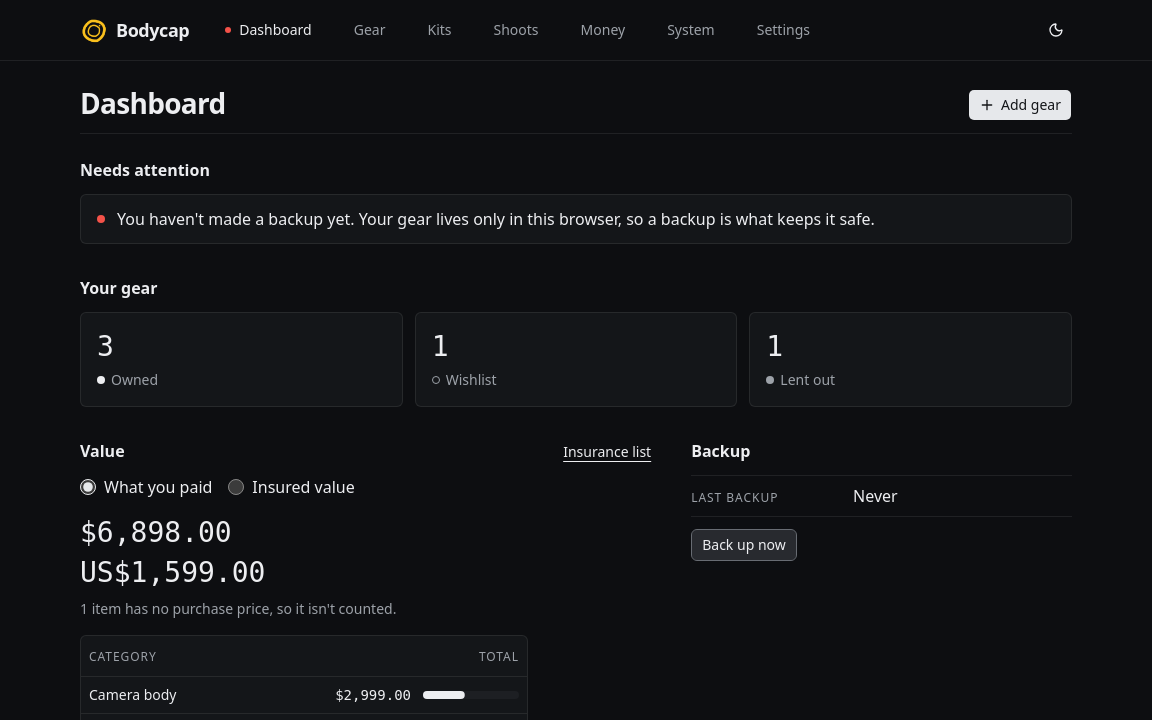
dashboard › counts gear by status, each linking to the list filtered by it
The width and height of the screenshot is (1152, 720).
Check: the heading "Dashboard" is shown, box [80,85,226,121]
Click the link "1 Lent out" at coordinates (808, 380), box [749,312,1072,407]
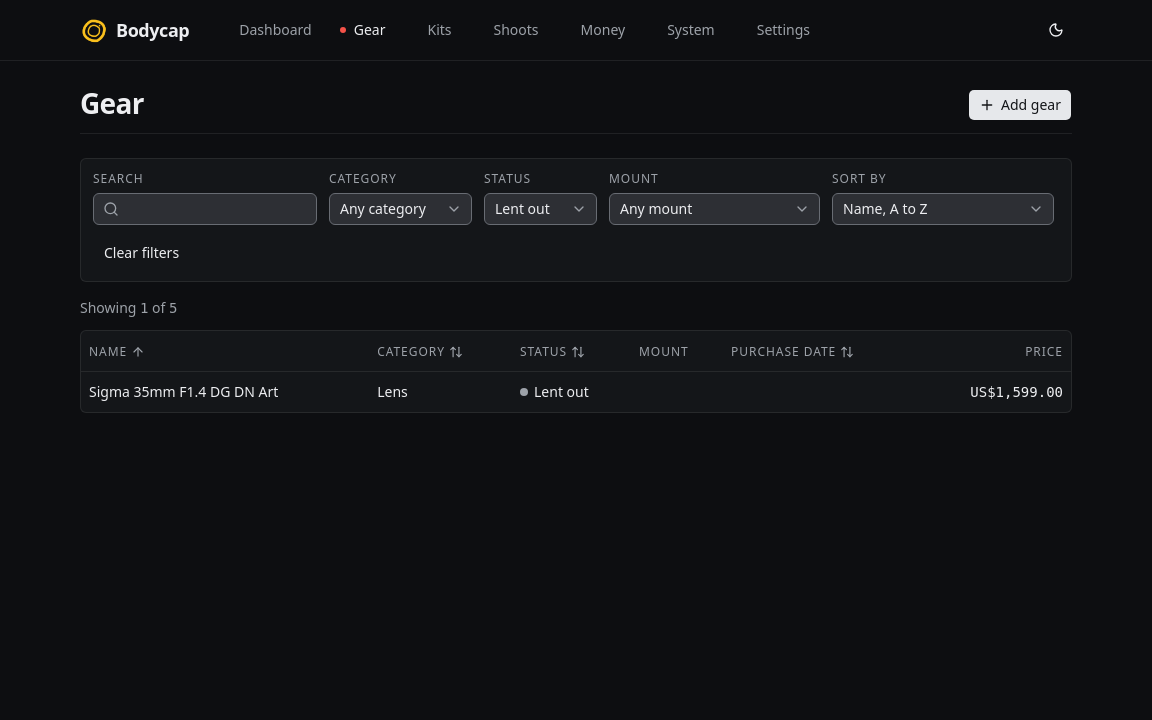
Check: the heading "Gear" is shown, box [80,85,144,121]
